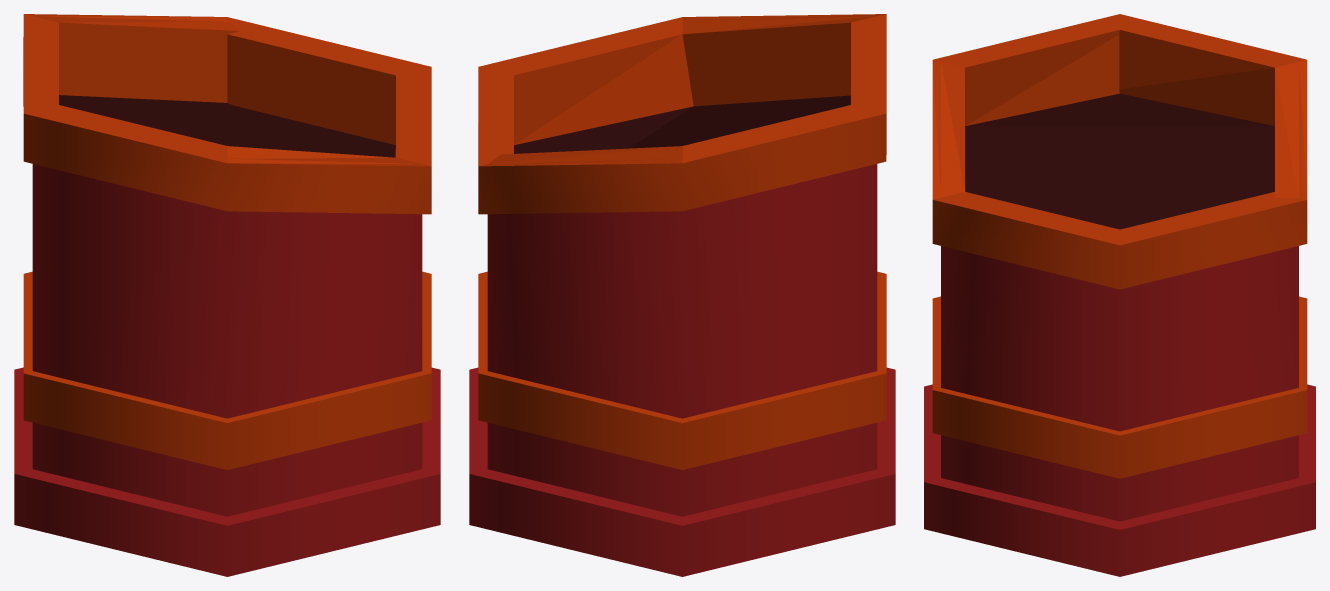
The model's file is Barrel2.FBX.
The picture shows the model from 3 angles, left to right: view 1: azimuth 30°, elevation 25°; view 2: azimuth 150°, elevation 25°; view 3: azimuth 270°, elevation 25°; orthographic projection. The views are drawn at different scales.
Visible parts, largest first — view 1: Barrel2; view 2: Barrel2; view 3: Barrel2.
Part boxes in pixels (x1,y1,x2,y2): Barrel2: [14, 14, 440, 576]; Barrel2: [469, 14, 895, 576]; Barrel2: [924, 14, 1315, 576].
Size of the model in its own units: 13.8 by 12.64 by 11.95.
